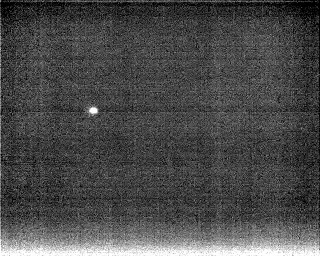AIRPLANE: (87, 104, 100, 117)
